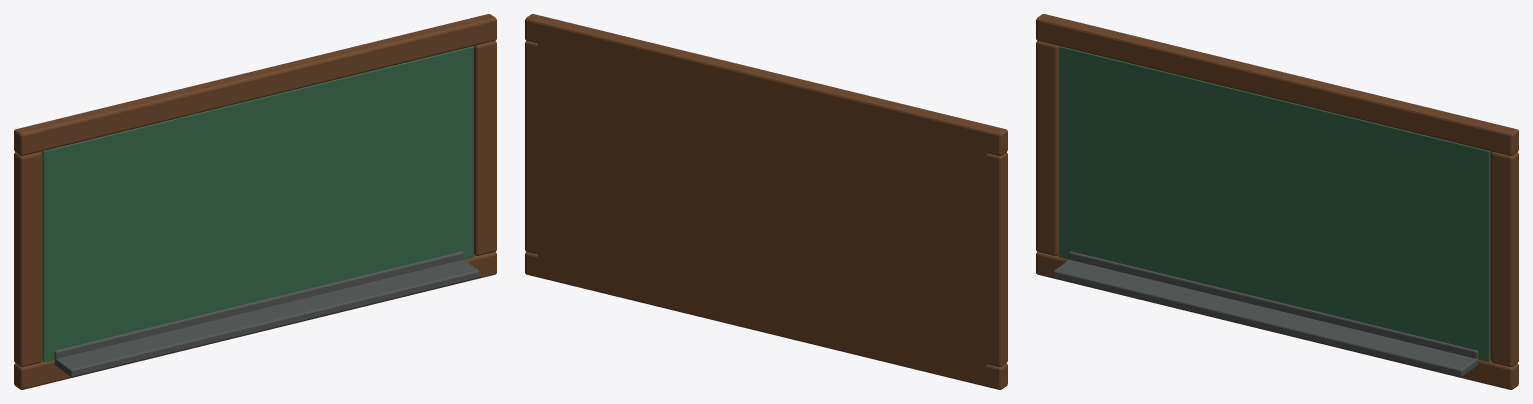
Rendered from QuadroNegro.fbx.
The picture shows the model from 3 angles, left to right: view 1: azimuth 30°, elevation 25°; view 2: azimuth 150°, elevation 25°; view 3: azimuth 330°, elevation 25°; orthographic projection.
Visible parts, largest first — view 1: QuadroNegro_Superficie, QuadroNegro_Moldura, QuadroNegro_Bandeja, QuadroNegro_Estrutura; view 2: QuadroNegro_Estrutura, QuadroNegro_Moldura; view 3: QuadroNegro_Superficie, QuadroNegro_Moldura, QuadroNegro_Bandeja, QuadroNegro_Estrutura.
Boxes of the visible parts, x1,y1,x2,y2 form: QuadroNegro_Superficie: (42,46,473,362); QuadroNegro_Moldura: (14,14,496,389); QuadroNegro_Bandeja: (54,251,479,377); QuadroNegro_Estrutura: (40,151,42,359); QuadroNegro_Estrutura: (538,38,988,371); QuadroNegro_Moldura: (525,14,1007,389); QuadroNegro_Superficie: (1059,46,1490,362); QuadroNegro_Moldura: (1036,14,1518,389); QuadroNegro_Bandeja: (1053,251,1478,377); QuadroNegro_Estrutura: (1490,151,1492,359).
Bounding box in the file's own units: 350 × 180 × 30.5.
